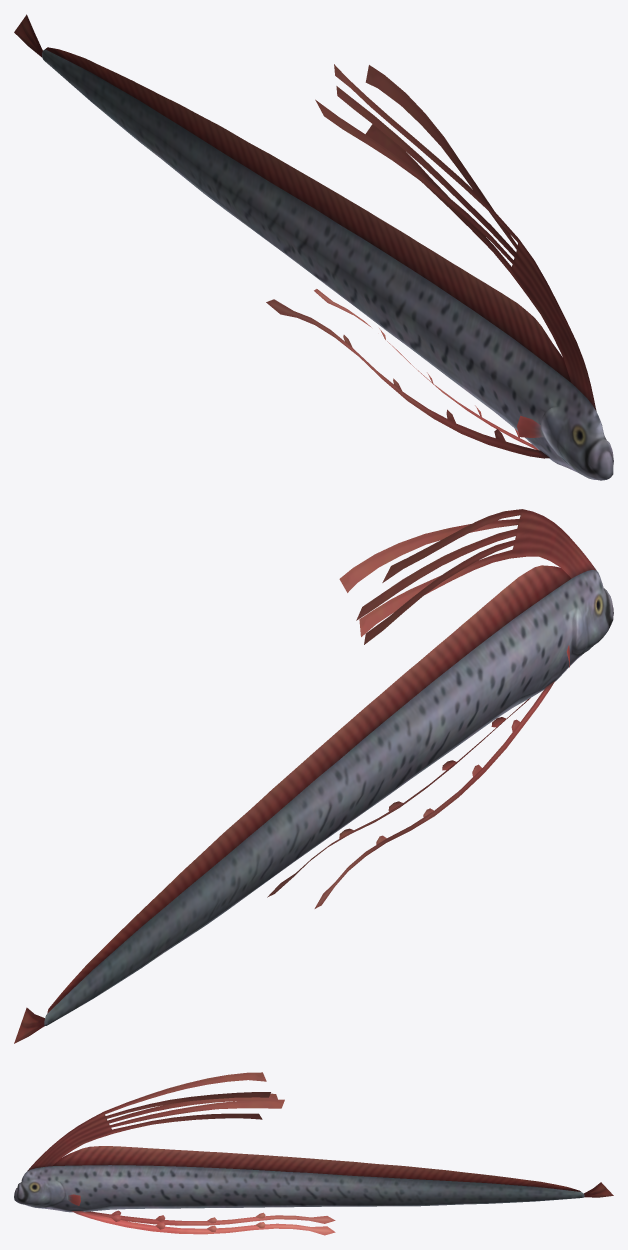
The model's file is oarfish.glb.
3 renders of one model, top to bottom at view 1: azimuth 30°, elevation 25°; view 2: azimuth 150°, elevation 25°; view 3: azimuth 270°, elevation 25°, orthographic. The views are drawn at different scales.
Visible parts, largest first — view 1: FishRyuuguunotukai__mRyuuguunotukai; view 2: FishRyuuguunotukai__mRyuuguunotukai; view 3: FishRyuuguunotukai__mRyuuguunotukai.
Boxes of the visible parts, x1,y1,x2,y2 form: FishRyuuguunotukai__mRyuuguunotukai: (14,14,613,480); FishRyuuguunotukai__mRyuuguunotukai: (14,509,613,1043); FishRyuuguunotukai__mRyuuguunotukai: (14,1072,613,1235).
Bounding box in the file's own units: 1.95 × 9.67 × 35.1.
1 material, 1 textured.
